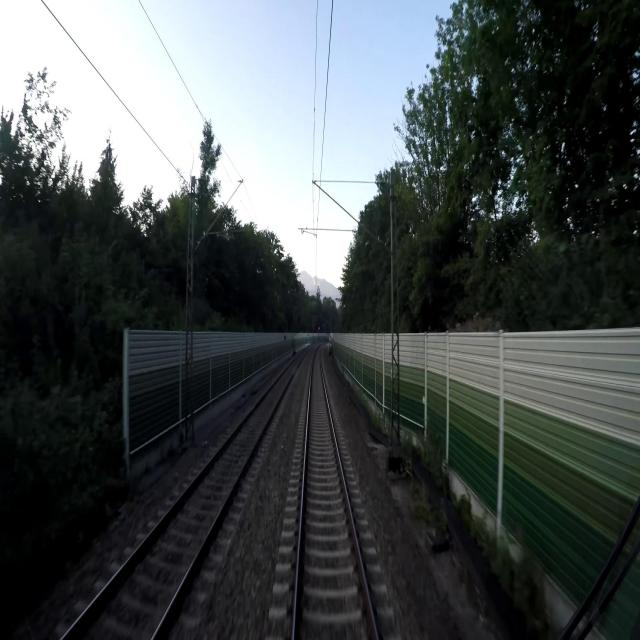rail-track: (66, 353, 303, 639), (296, 350, 374, 639)
